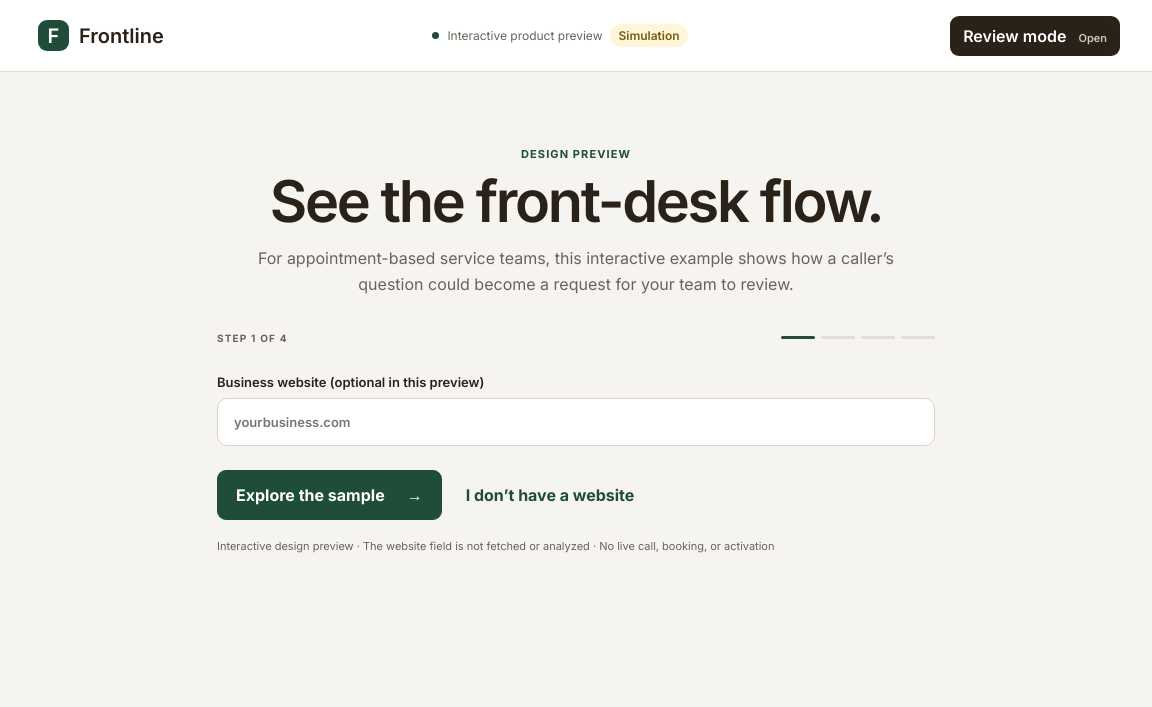
Test: keeps review controls separate and exposes recovery states
Click the button "Review mode Open". click: (1035, 36)
box: [950,16,1120,56]
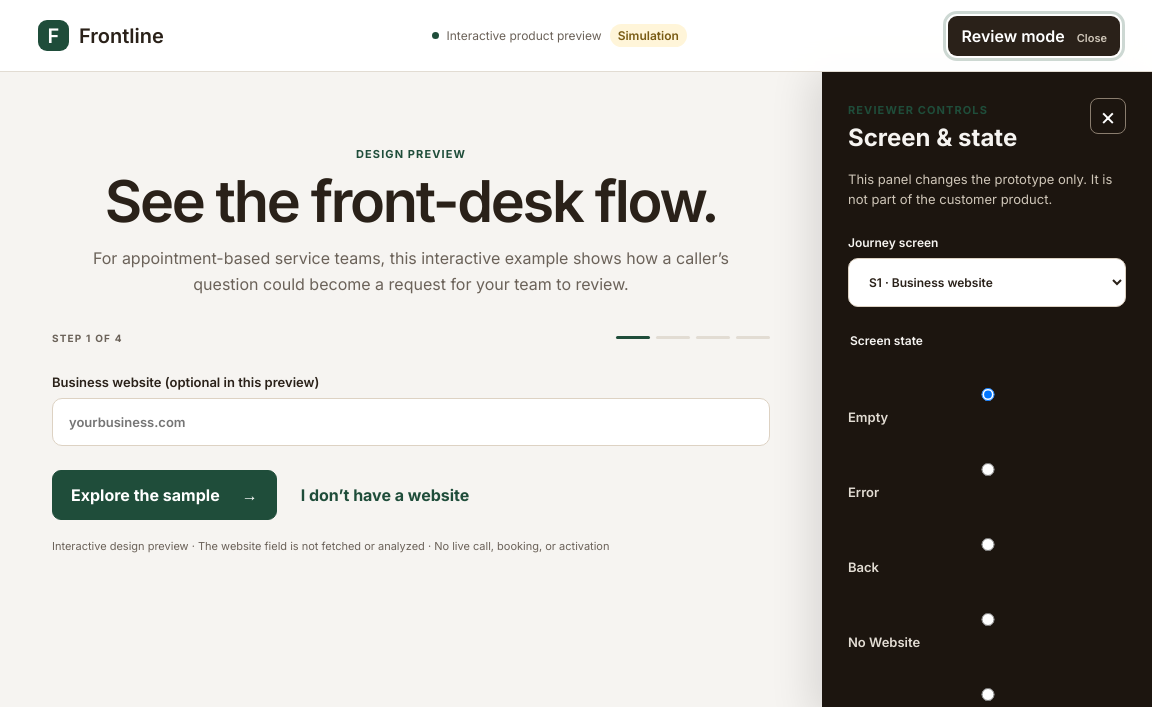
Select "S9 · Tailored setup" in the dropdown labelled "Journey screen". click: (987, 282)
box: [848,258,1126,307]
(page scrolled)
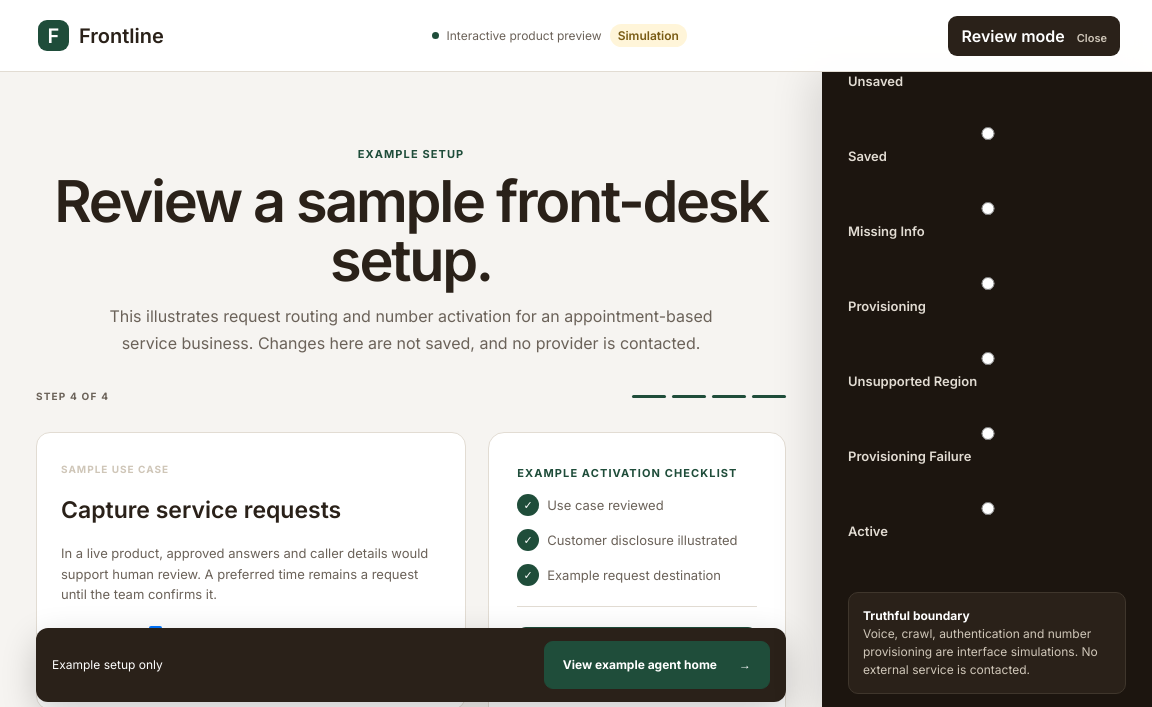
Click the radio button labelled "provisioning failure". click: (988, 434)
box: [853,427,1123,440]
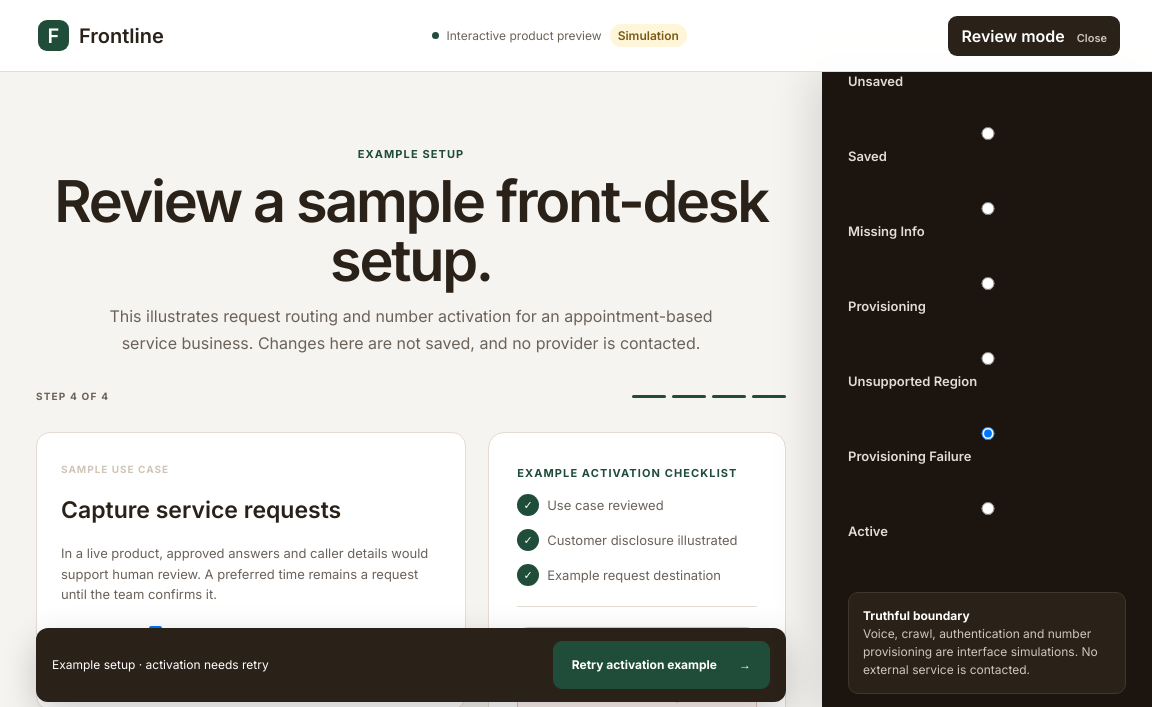
Check: the message shows "activation not confirmed", box [567,646,716,682]
Check: the button "Retry activation example →" is shown, box [553,641,770,689]
Check: the button "View example agent home" is gone
